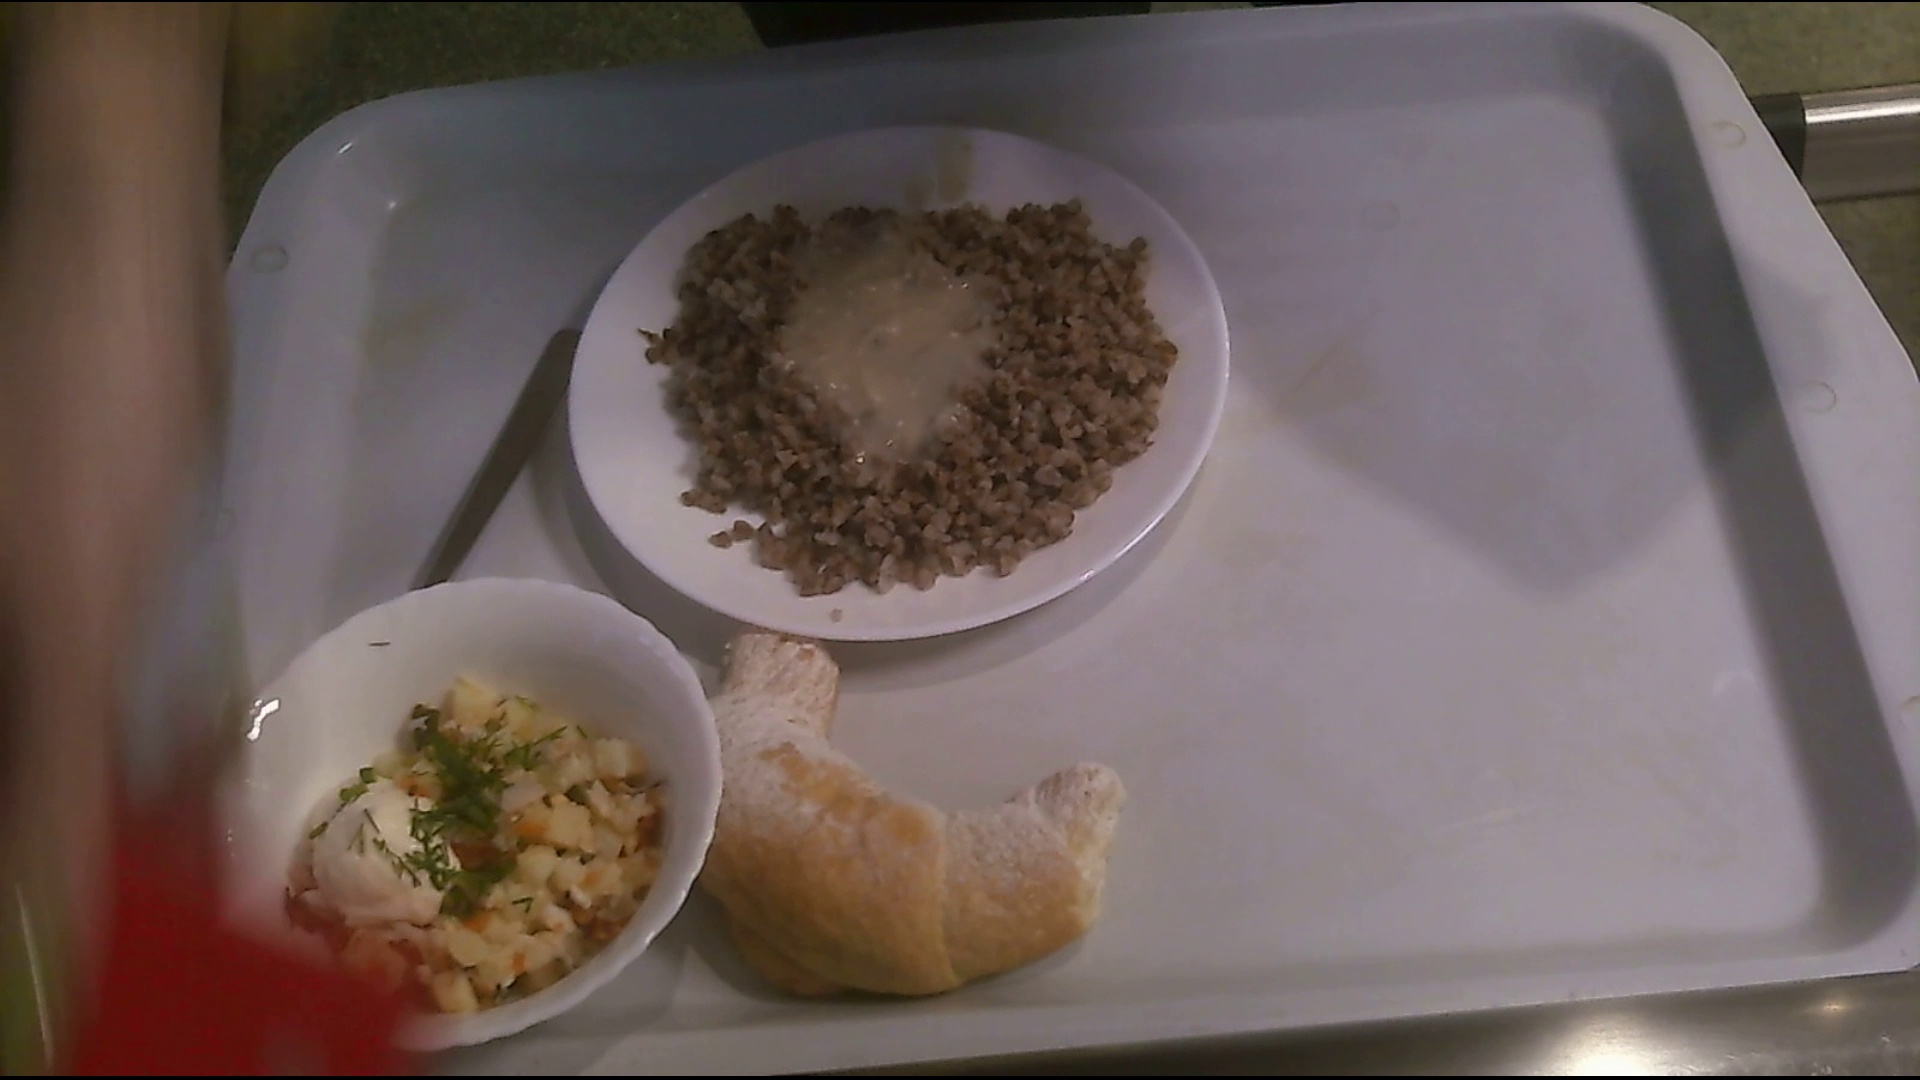bowl: (204, 580, 719, 1036)
other: (709, 625, 1122, 1002)
plate: (572, 131, 1217, 649)
